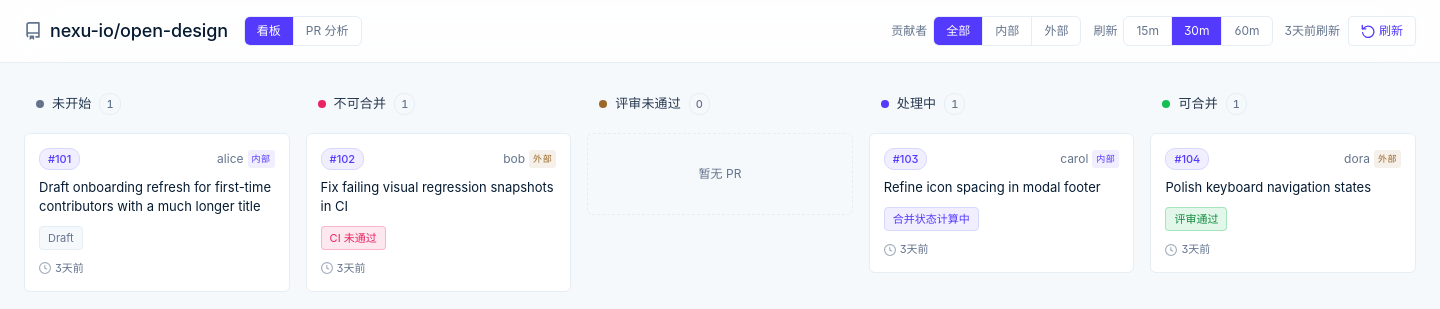
Test: HomePage › filters cards by contributor type without navigation
The image size is (1440, 309).
Expected: the text "alice" is shown, 217,151 -> 244,167
Expected: the text "bob" is shown, 503,151 -> 525,167
Click the button "外部".
click(1056, 31)  # box 1032,17 -> 1080,45
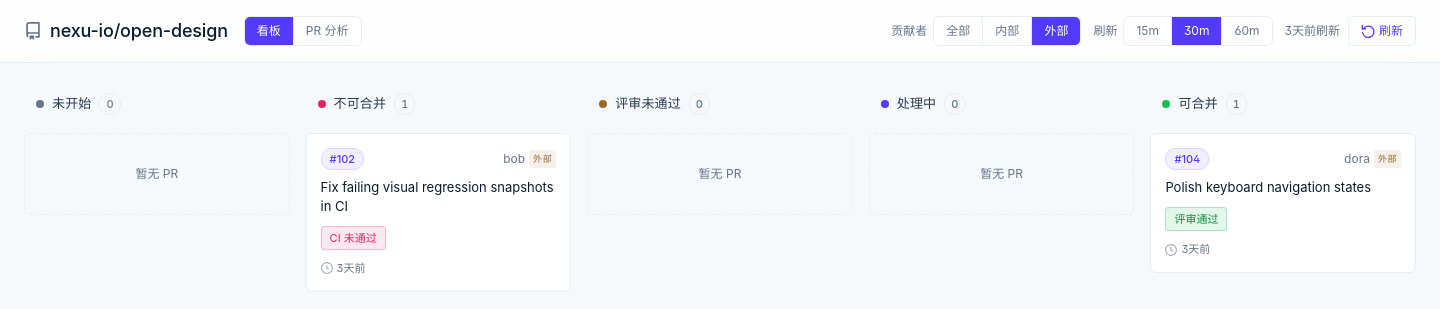
Expected: the text "bob" is shown, 503,151 -> 525,167
Result: the link "alice" is gone
Click the button "内部".
click(1008, 31)  # box 983,17 -> 1032,45
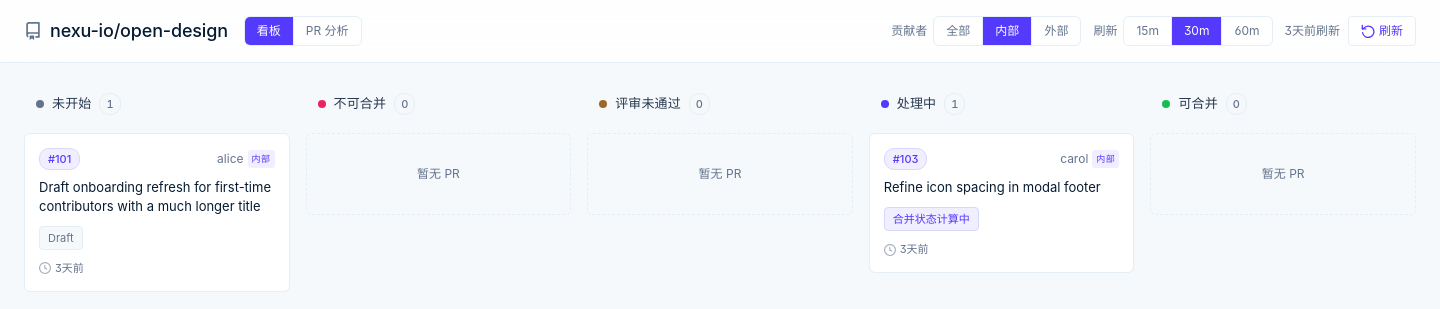
Result: the text "alice" is shown at 217,151 -> 244,167
Result: the text "carol" is shown at 1060,151 -> 1088,167
Result: the link "bob" is gone
